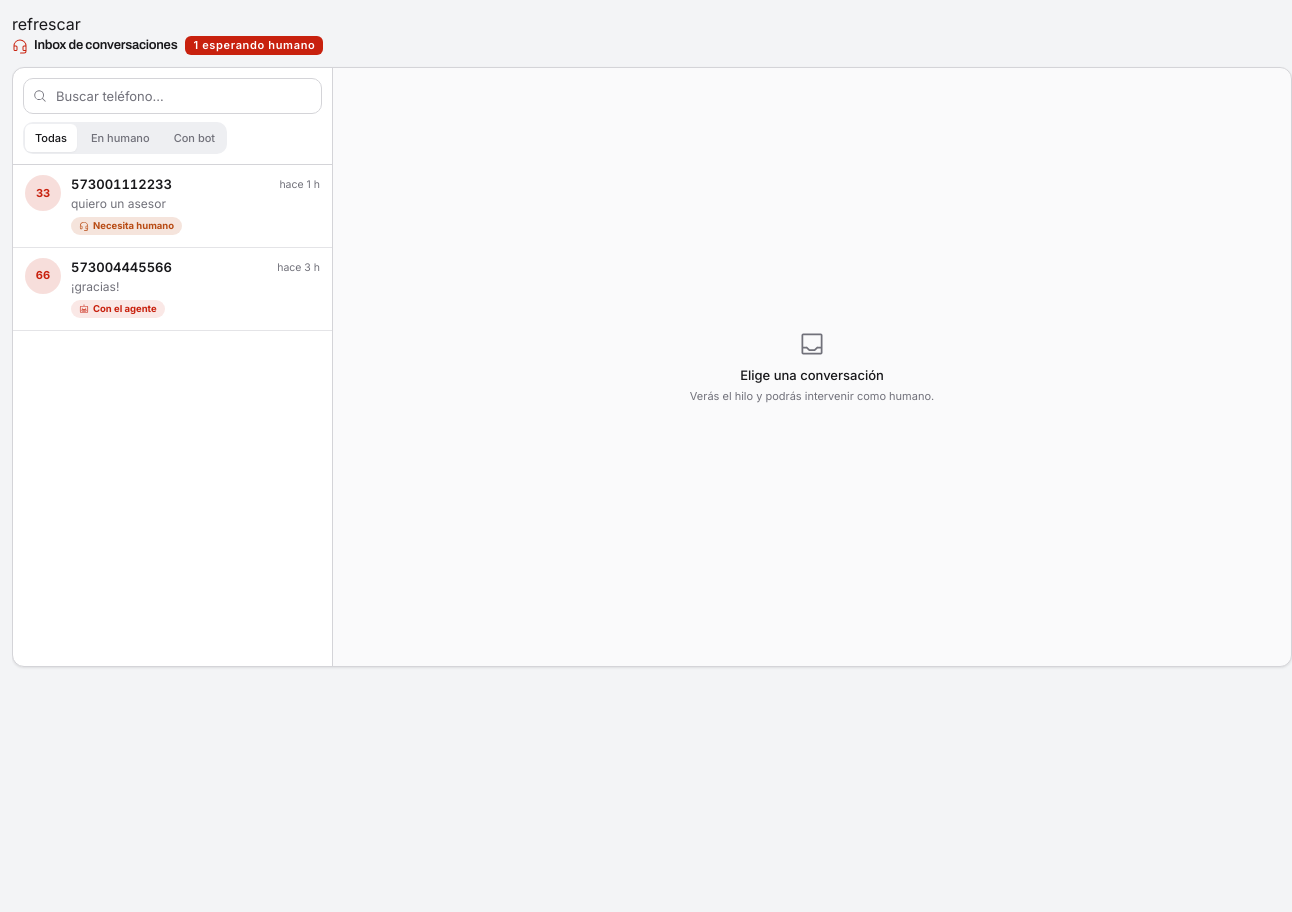
TabConversaciones — inbox › al seleccionar una conversación carga y pinta su hilo
Click the text "573001112233": (121, 185) [71,175,172,194]
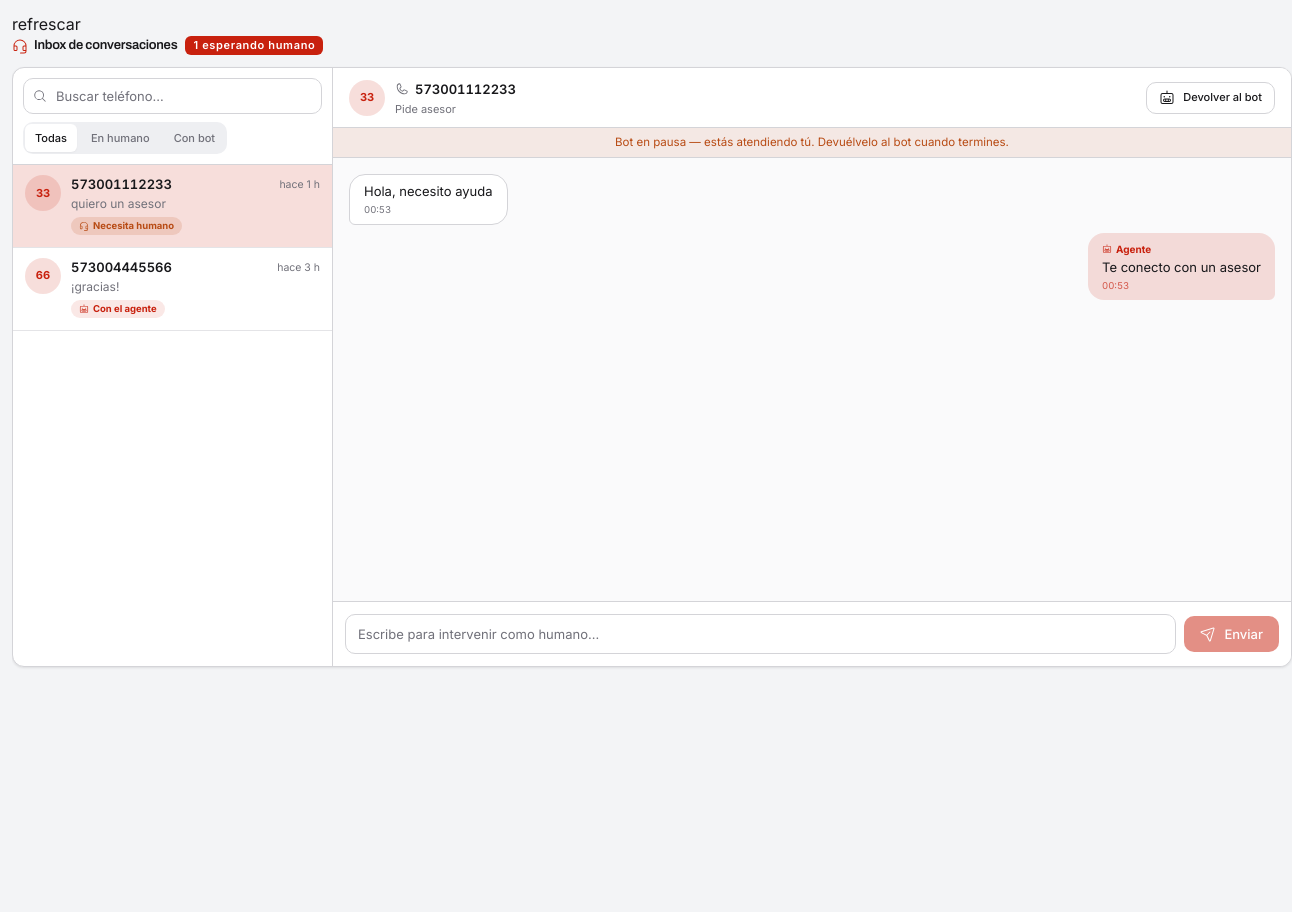
Result: the text "Hola, necesito ayuda" is shown at [364,184,492,201]
Result: the text "Te conecto con un asesor" is shown at [1102,259,1261,277]
